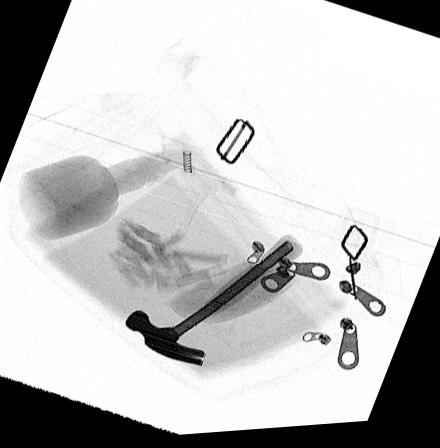Hammer: (123, 239, 304, 371)
